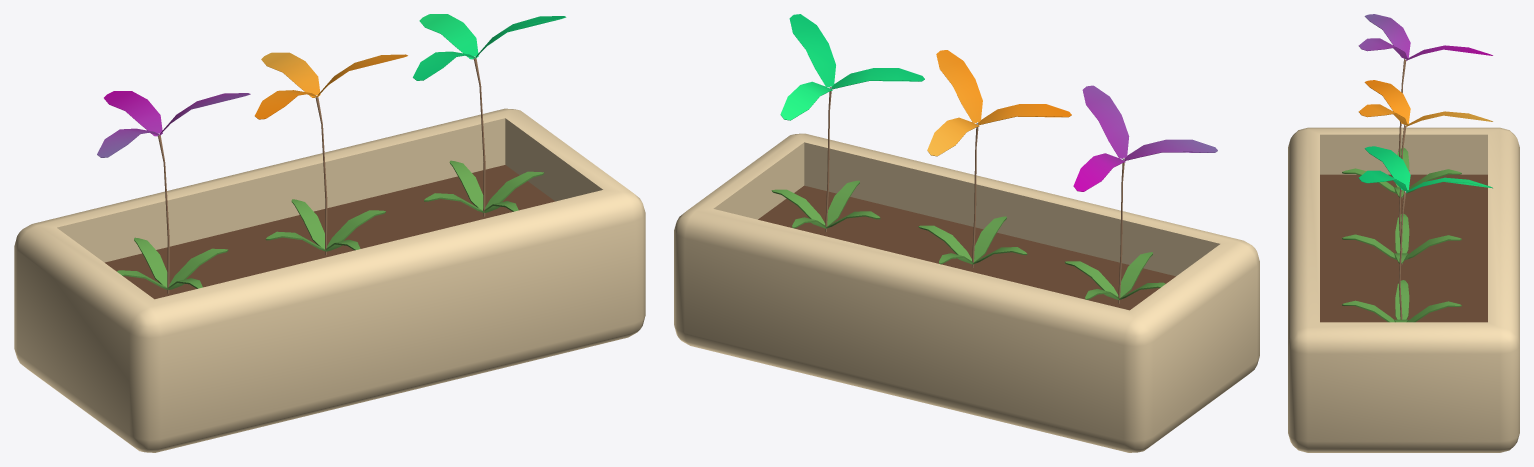
File: Tree Pot_1C.fbx
3 views of the same model, side by side, from view 1: azimuth 30°, elevation 25°; view 2: azimuth 150°, elevation 25°; view 3: azimuth 270°, elevation 25° (orthographic). The views are drawn at different scales.
Visible parts, largest first — view 1: Tree Pot_1C; view 2: Tree Pot_1C; view 3: Tree Pot_1C.
Part boxes in pixels (x1,y1,x2,y2): Tree Pot_1C: (14,14,645,452); Tree Pot_1C: (674,14,1259,452); Tree Pot_1C: (1288,14,1519,452).
Size of the model in its own units: 1.06 by 0.5999 by 0.4843.
